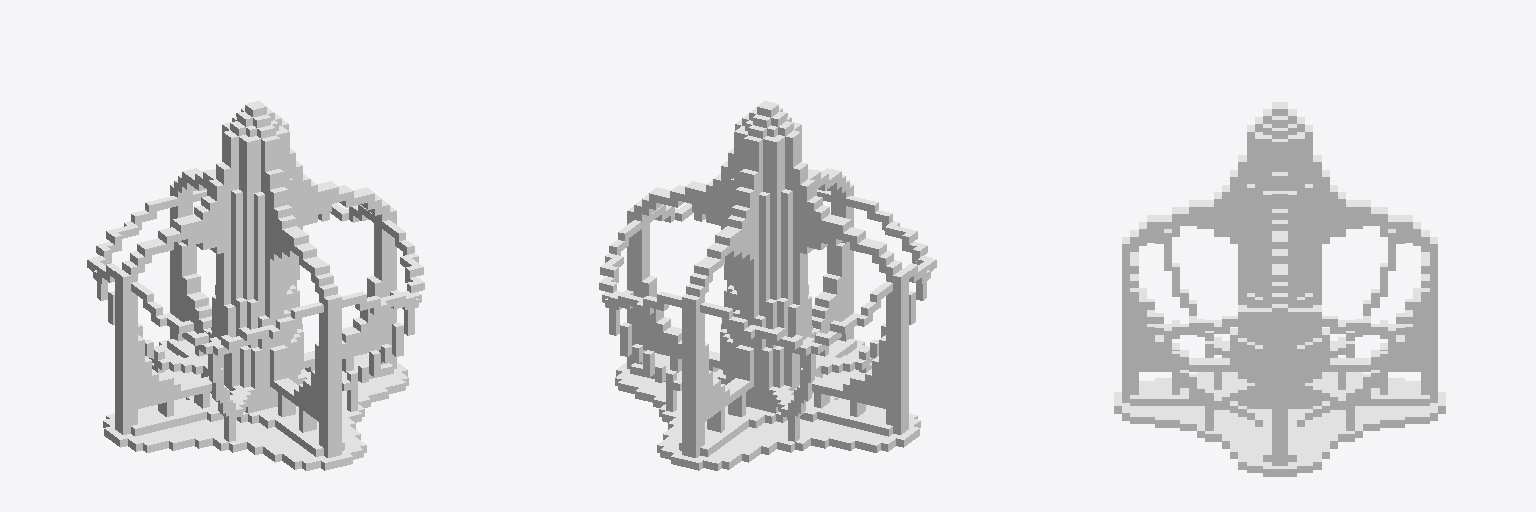
Rendered from Sandstuermer.obj.
3 renders of one model, left to right at view 1: azimuth 30°, elevation 25°; view 2: azimuth 150°, elevation 25°; view 3: azimuth 270°, elevation 25°, orthographic.
Visible parts, largest first — view 1: Sandstürmer; view 2: Sandstürmer; view 3: Sandstürmer.
Part boxes in pixels (x1,y1,x2,y2): Sandstürmer: (87,101,424,470); Sandstürmer: (599,101,936,470); Sandstürmer: (1114,102,1445,476).
Size of the model in its own units: 40 by 40 by 40.